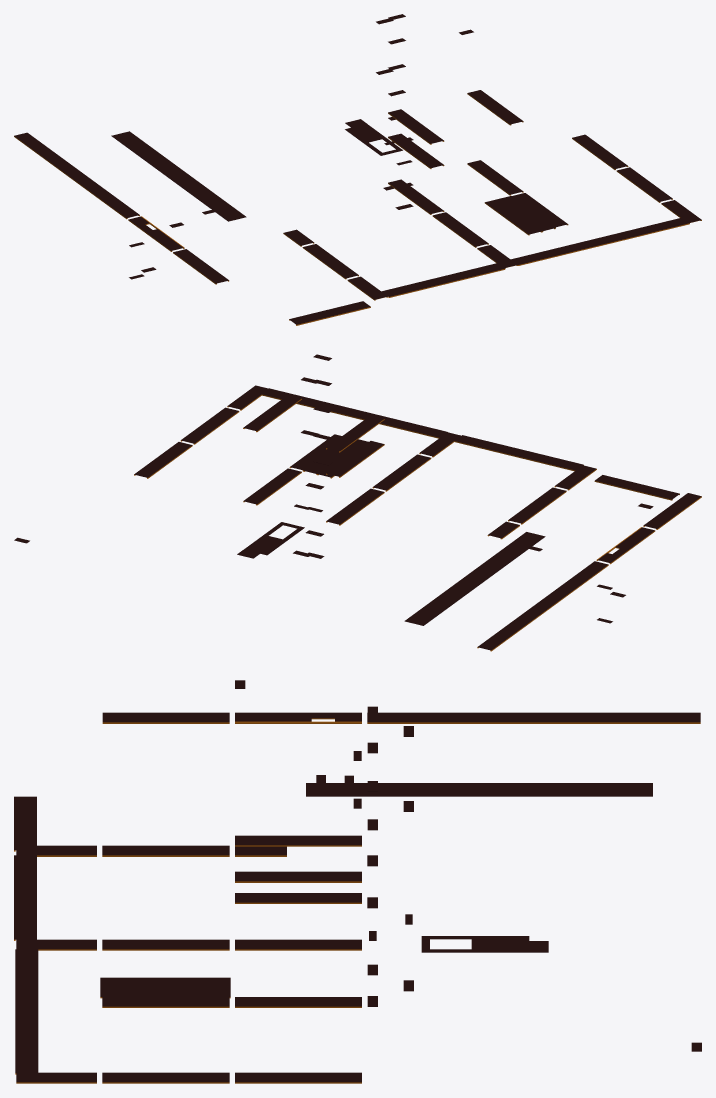
3 renders of one model, top to bottom at view 1: azimuth 30°, elevation 25°; view 2: azimuth 150°, elevation 25°; view 3: azimuth 270°, elevation 25°, orthographic. The views are drawn at different scales.
Parts seen in each view (by area): view 1: Box604; view 2: Box604; view 3: Box604.
Part boxes in pixels (bbox=[...]): Box604: bbox=[14, 14, 701, 325]; Box604: bbox=[14, 354, 701, 651]; Box604: bbox=[14, 680, 701, 1083].
Size of the model in its own units: 9092 by 3644 by 8000.
